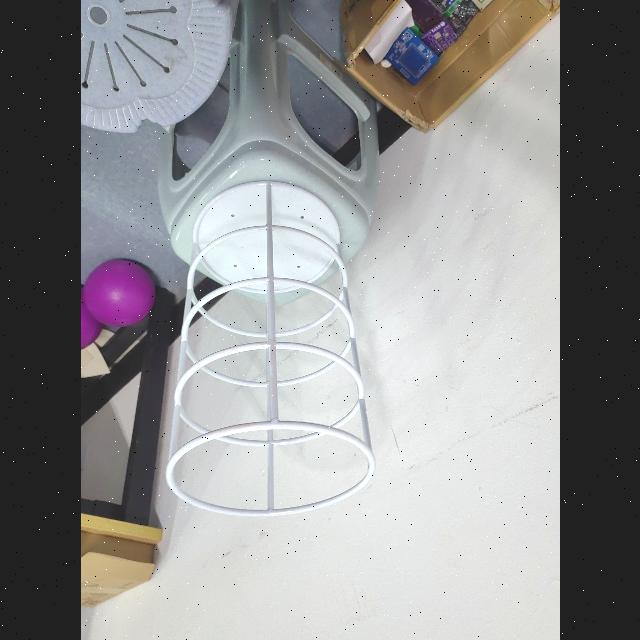S: (161, 175, 377, 523)
